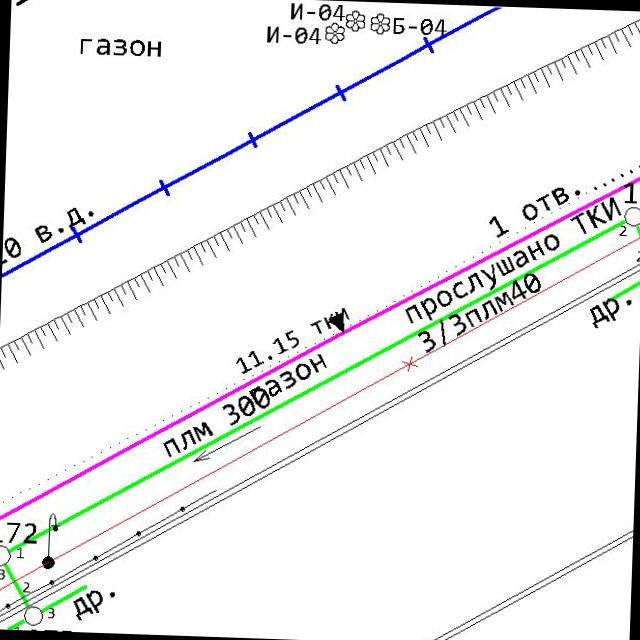bushes: (368, 11, 392, 36), (323, 20, 346, 46), (344, 8, 366, 33)
mark: (326, 309, 346, 336)
well: (21, 604, 44, 627)
